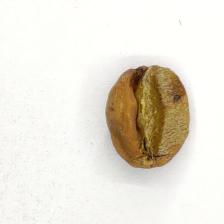NG: (129, 66, 191, 158)
